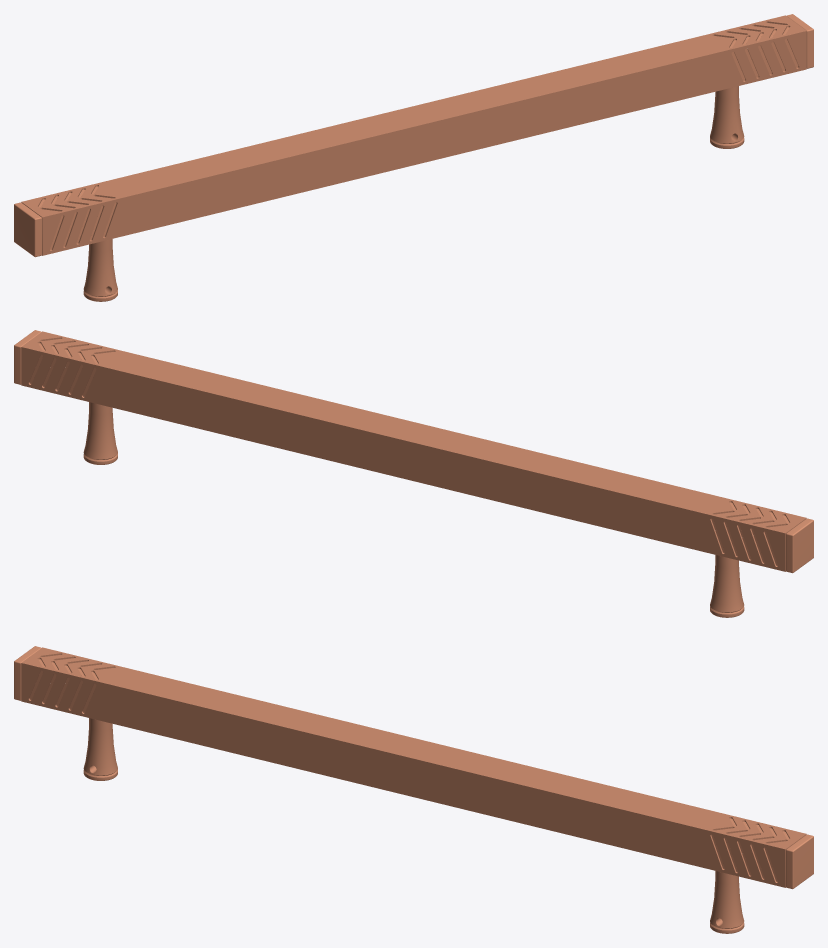
File: door-handles-1716.glb
3 views of the same model, one above another, from view 1: azimuth 30°, elevation 25°; view 2: azimuth 150°, elevation 25°; view 3: azimuth 330°, elevation 25° (orthographic).
Parts seen in each view (by area): view 1: Bar, Post -1, Post 1, Plate -1; view 2: Bar, Post -1, Post 1, Plate -1; view 3: Bar, Post 1, Post -1, Plate 1.
Boxes of the visible parts, x1=… form: Bar: x1=21, y1=15, x2=806, y2=255; Post -1: x1=83, y1=239, x2=117, y2=301; Post 1: x1=710, y1=86, x2=744, y2=148; Plate -1: x1=14, y1=202, x2=41, y2=257; Bar: x1=21, y1=331, x2=806, y2=571; Post -1: x1=710, y1=555, x2=744, y2=617; Post 1: x1=83, y1=402, x2=117, y2=464; Plate -1: x1=786, y1=518, x2=813, y2=573; Bar: x1=21, y1=647, x2=806, y2=887; Post 1: x1=710, y1=871, x2=744, y2=933; Post -1: x1=83, y1=718, x2=117, y2=780; Plate 1: x1=786, y1=834, x2=813, y2=889.
Bounding box in the file's own units: 0.305 × 0.0382 × 0.0144.
